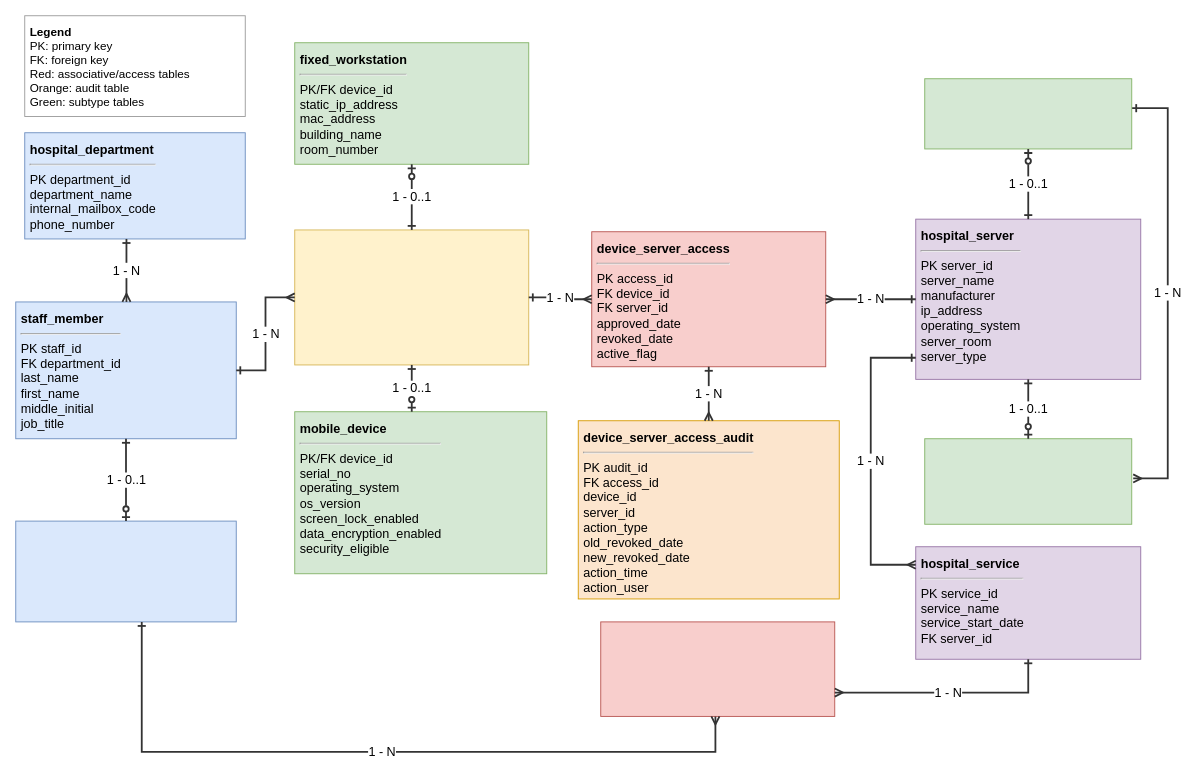
The diagram is 1197 pixels wide and 777 high, and some of its shapes have lost their labels. The shapes that lost their labels are listed below. From the top down, each one's box as (x1, y1, x2, y2) in pixels, then its label:
(924, 78, 1132, 149): physical_server PK/FK server_id
(294, 229, 529, 365): device PK device_id FK staff_id manufacturer model registered_date device_type
(924, 438, 1132, 524): virtual_server PK/FK server_id FK physical_host_id
(15, 520, 236, 622): staff_account PK/FK staff_id username password_hash created_at
(600, 621, 835, 716): staff_service_access PK/FK staff_id PK/FK service_id granted_date
